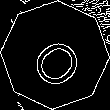O_NE: (22, 22, 88, 88)
